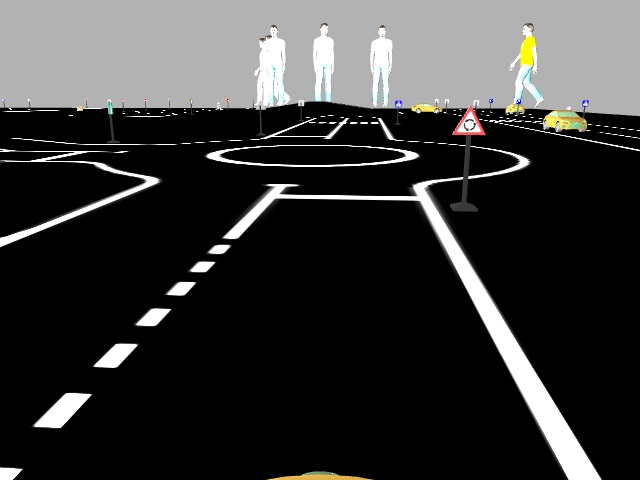Roundabout: (447, 106, 487, 136)
